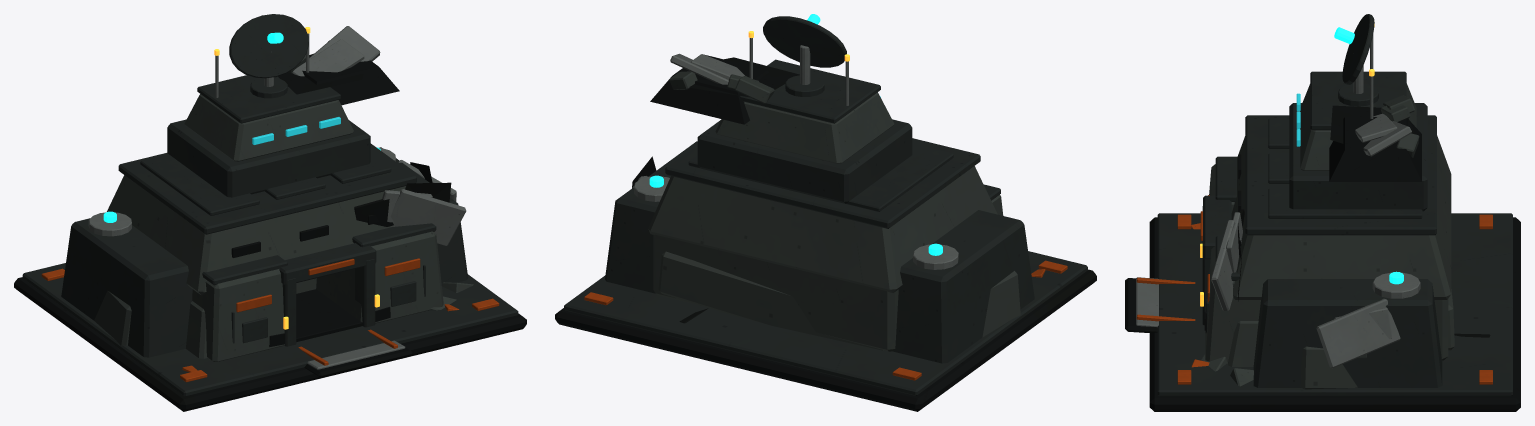
3 views of the same model, side by side, from view 1: azimuth 30°, elevation 25°; view 2: azimuth 150°, elevation 25°; view 3: azimuth 270°, elevation 25° (orthographic). The views are drawn at different scales.
Parts seen in each view (by area): view 1: FF_HQ_01_M_Gunmetal_runtime, FF_HQ_01_M_ArmorPanel_runtime, FF_HQ_01_M_Recess_runtime, radar_yaw_M_Gunmetal_runtime, damage_critical_collapse, damage_critical_bent_armor, ruin_collapsed_structure, FF_HQ_01_M_Steel_runtime, FF_HQ_01_M_AmberArmor_runtime, damage_damaged_bent_armor, ruin_foundation, damage_damaged_breach (+1 smaller); view 2: FF_HQ_01_M_Gunmetal_runtime, FF_HQ_01_M_ArmorPanel_runtime, FF_HQ_01_M_Recess_runtime, ruin_collapsed_structure, damage_critical_collapse, radar_yaw_M_Gunmetal_runtime, FF_HQ_01_M_Steel_runtime, damage_critical_debris, FF_HQ_01_M_AmberArmor_runtime, damage_damaged_bent_armor, damage_critical_bent_armor; view 3: FF_HQ_01_M_Gunmetal_runtime, FF_HQ_01_M_ArmorPanel_runtime, FF_HQ_01_M_Recess_runtime, damage_critical_bent_armor, damage_critical_collapse, ruin_collapsed_structure, FF_HQ_01_M_Steel_runtime, radar_yaw_M_Gunmetal_runtime, damage_damaged_bent_armor, FF_HQ_01_M_AmberArmor_runtime, damage_critical_debris, ruin_foundation.
Boxes of the visible parts, box(x1,y1,x2,y2) form: FF_HQ_01_M_Gunmetal_runtime: box(22, 75, 518, 396); FF_HQ_01_M_ArmorPanel_runtime: box(107, 94, 443, 361); FF_HQ_01_M_Recess_runtime: box(14, 215, 526, 411); radar_yaw_M_Gunmetal_runtime: box(229, 14, 308, 98); damage_critical_collapse: box(278, 53, 451, 202); damage_critical_bent_armor: box(309, 26, 466, 245); ruin_collapsed_structure: box(94, 290, 207, 358); FF_HQ_01_M_Steel_runtime: box(88, 33, 405, 369); FF_HQ_01_M_AmberArmor_runtime: box(41, 258, 499, 382); damage_damaged_bent_armor: box(292, 39, 432, 222); ruin_foundation: box(304, 347, 412, 377); damage_damaged_breach: box(354, 162, 432, 226); FF_HQ_01_M_Gunmetal_runtime: box(564, 59, 1087, 395); FF_HQ_01_M_ArmorPanel_runtime: box(648, 92, 1003, 351); FF_HQ_01_M_Recess_runtime: box(555, 269, 1096, 411); ruin_collapsed_structure: box(658, 251, 1020, 350); damage_critical_collapse: box(650, 54, 799, 124); radar_yaw_M_Gunmetal_runtime: box(763, 16, 846, 96); FF_HQ_01_M_Steel_runtime: box(634, 38, 958, 269); damage_critical_debris: box(669, 71, 774, 103); FF_HQ_01_M_AmberArmor_runtime: box(584, 260, 1067, 380); damage_damaged_bent_armor: box(632, 54, 744, 187); damage_critical_bent_armor: box(638, 53, 728, 180); FF_HQ_01_M_Gunmetal_runtime: box(1157, 71, 1512, 396); FF_HQ_01_M_ArmorPanel_runtime: box(1205, 83, 1451, 362); FF_HQ_01_M_Recess_runtime: box(1149, 154, 1520, 411); damage_critical_bent_armor: box(1211, 121, 1411, 367); damage_critical_collapse: box(1238, 105, 1421, 301); ruin_collapsed_structure: box(1228, 289, 1454, 389); FF_HQ_01_M_Steel_runtime: box(1136, 34, 1420, 327); radar_yaw_M_Gunmetal_runtime: box(1338, 14, 1378, 106); damage_damaged_bent_armor: box(1226, 113, 1397, 338); FF_HQ_01_M_AmberArmor_runtime: box(1136, 195, 1492, 384); damage_critical_debris: box(1201, 95, 1419, 386); ruin_foundation: box(1125, 278, 1490, 337).
Size of the model in its own units: 13.61 by 10.25 by 11.94.
8 materials, 5 textured.
